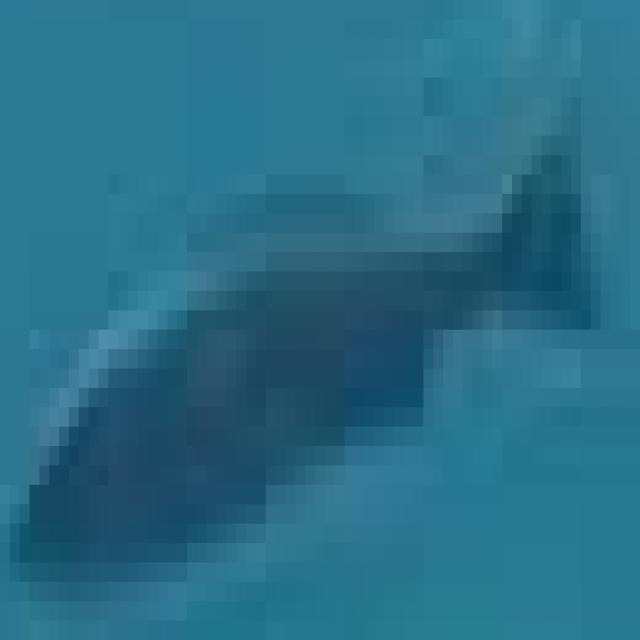fish: (0, 19, 630, 640)
